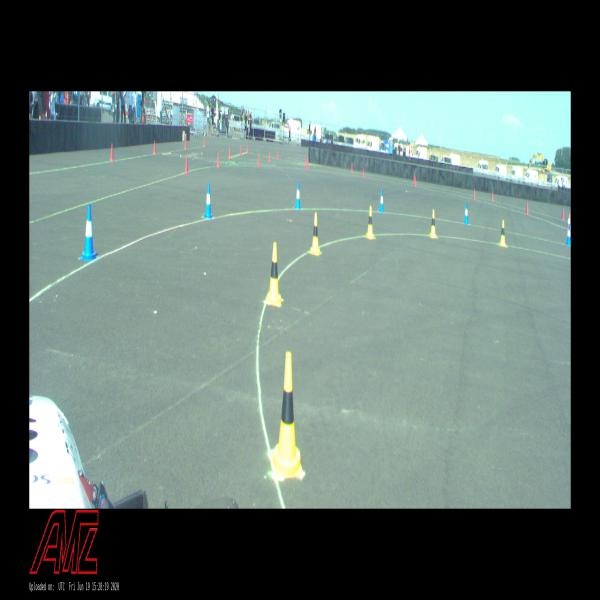blue_cone: (81, 204, 98, 262), (204, 184, 213, 219), (295, 182, 301, 209), (463, 203, 469, 224), (379, 190, 384, 212), (566, 224, 570, 246)
orange_cone: (566, 214, 570, 230)
unknown_cone: (185, 155, 189, 174), (110, 143, 114, 161), (217, 152, 220, 168), (153, 140, 156, 154), (184, 138, 187, 150), (561, 208, 564, 220), (491, 190, 494, 201), (258, 154, 260, 167), (526, 202, 528, 215), (268, 150, 270, 162), (229, 147, 231, 158), (304, 155, 306, 166), (306, 159, 308, 170), (351, 162, 353, 173), (362, 167, 364, 178), (473, 189, 475, 200), (240, 144, 242, 154), (277, 150, 279, 160), (247, 144, 249, 152), (414, 173, 415, 184), (204, 137, 205, 147), (415, 176, 416, 186)
yellow_cone: (272, 352, 303, 478), (266, 242, 282, 306), (310, 213, 320, 255), (366, 206, 374, 239), (429, 209, 437, 238), (499, 220, 507, 247)
